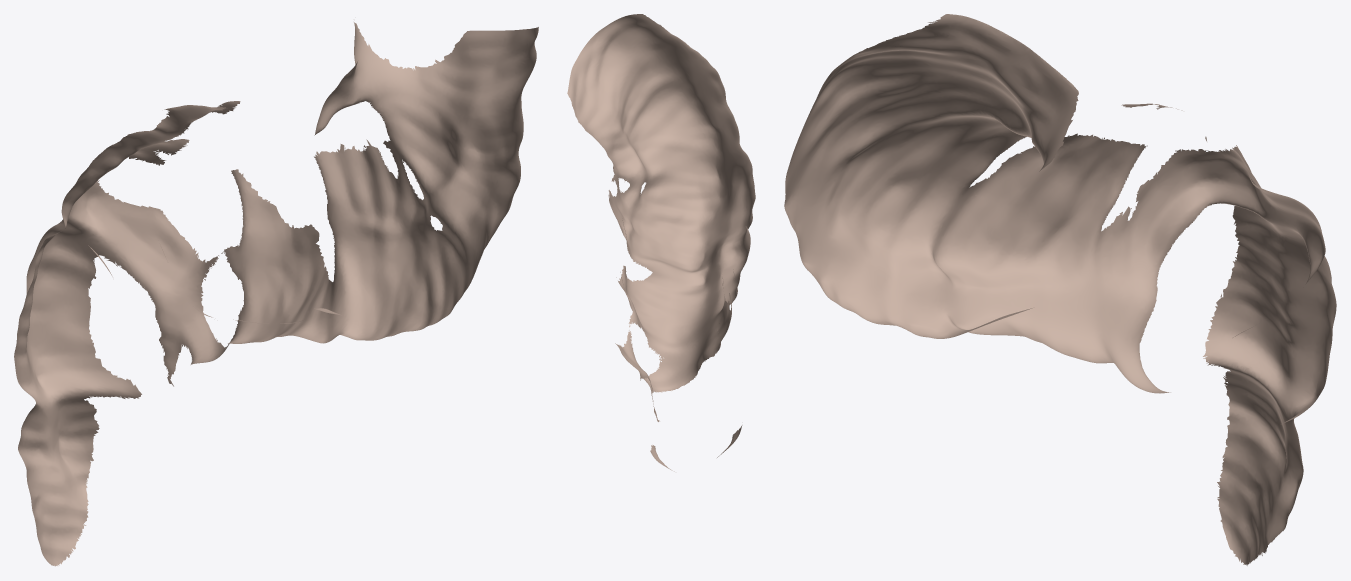
The model's file is c3vd_sigmoid_t1_a_gt.glb.
3 views of the same model, side by side, from view 1: azimuth 30°, elevation 25°; view 2: azimuth 150°, elevation 25°; view 3: azimuth 270°, elevation 25° (orthographic). The views are drawn at different scales.
Size of the model in its own units: 2.78 by 4.39 by 3.34.
